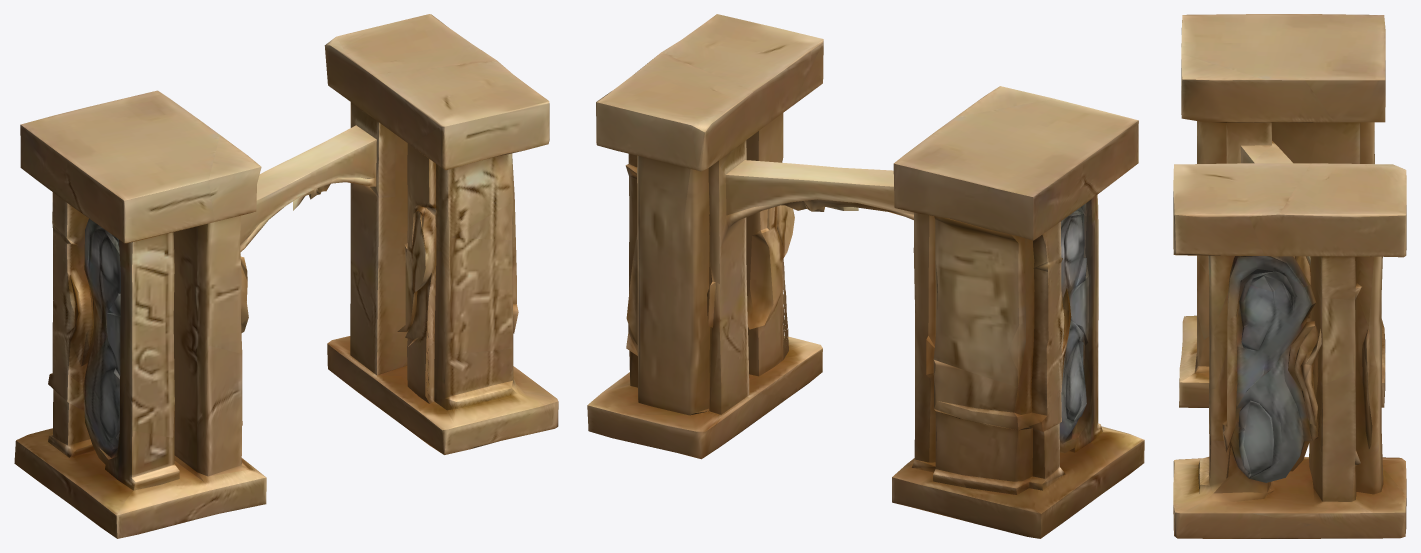
The model's file is m2PolarityGate.glb.
The picture shows the model from 3 angles, left to right: view 1: azimuth 30°, elevation 25°; view 2: azimuth 150°, elevation 25°; view 3: azimuth 270°, elevation 25°; orthographic projection. The views are drawn at different scales.
Visible parts, largest first — view 1: model; view 2: model; view 3: model.
Boxes of the visible parts, x1,y1,x2,y2 form: model: [14, 14, 558, 538]; model: [587, 14, 1144, 538]; model: [1173, 14, 1406, 538].
Size of the model in its own units: 1.9 by 1.4 by 0.8993.
Materials: 1 (1 with a texture image).
